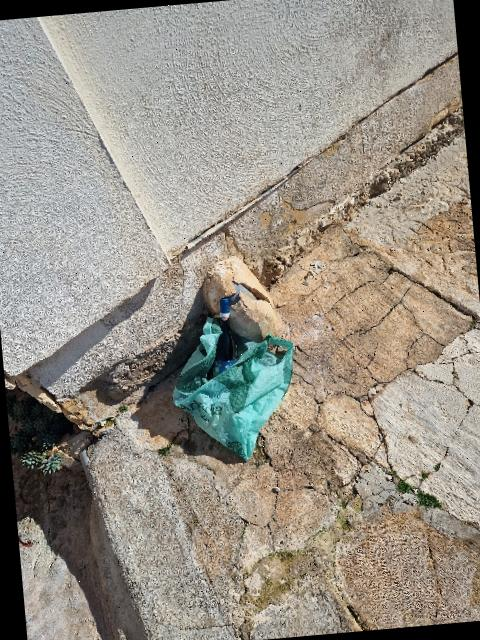Other: (172, 297, 293, 460)
